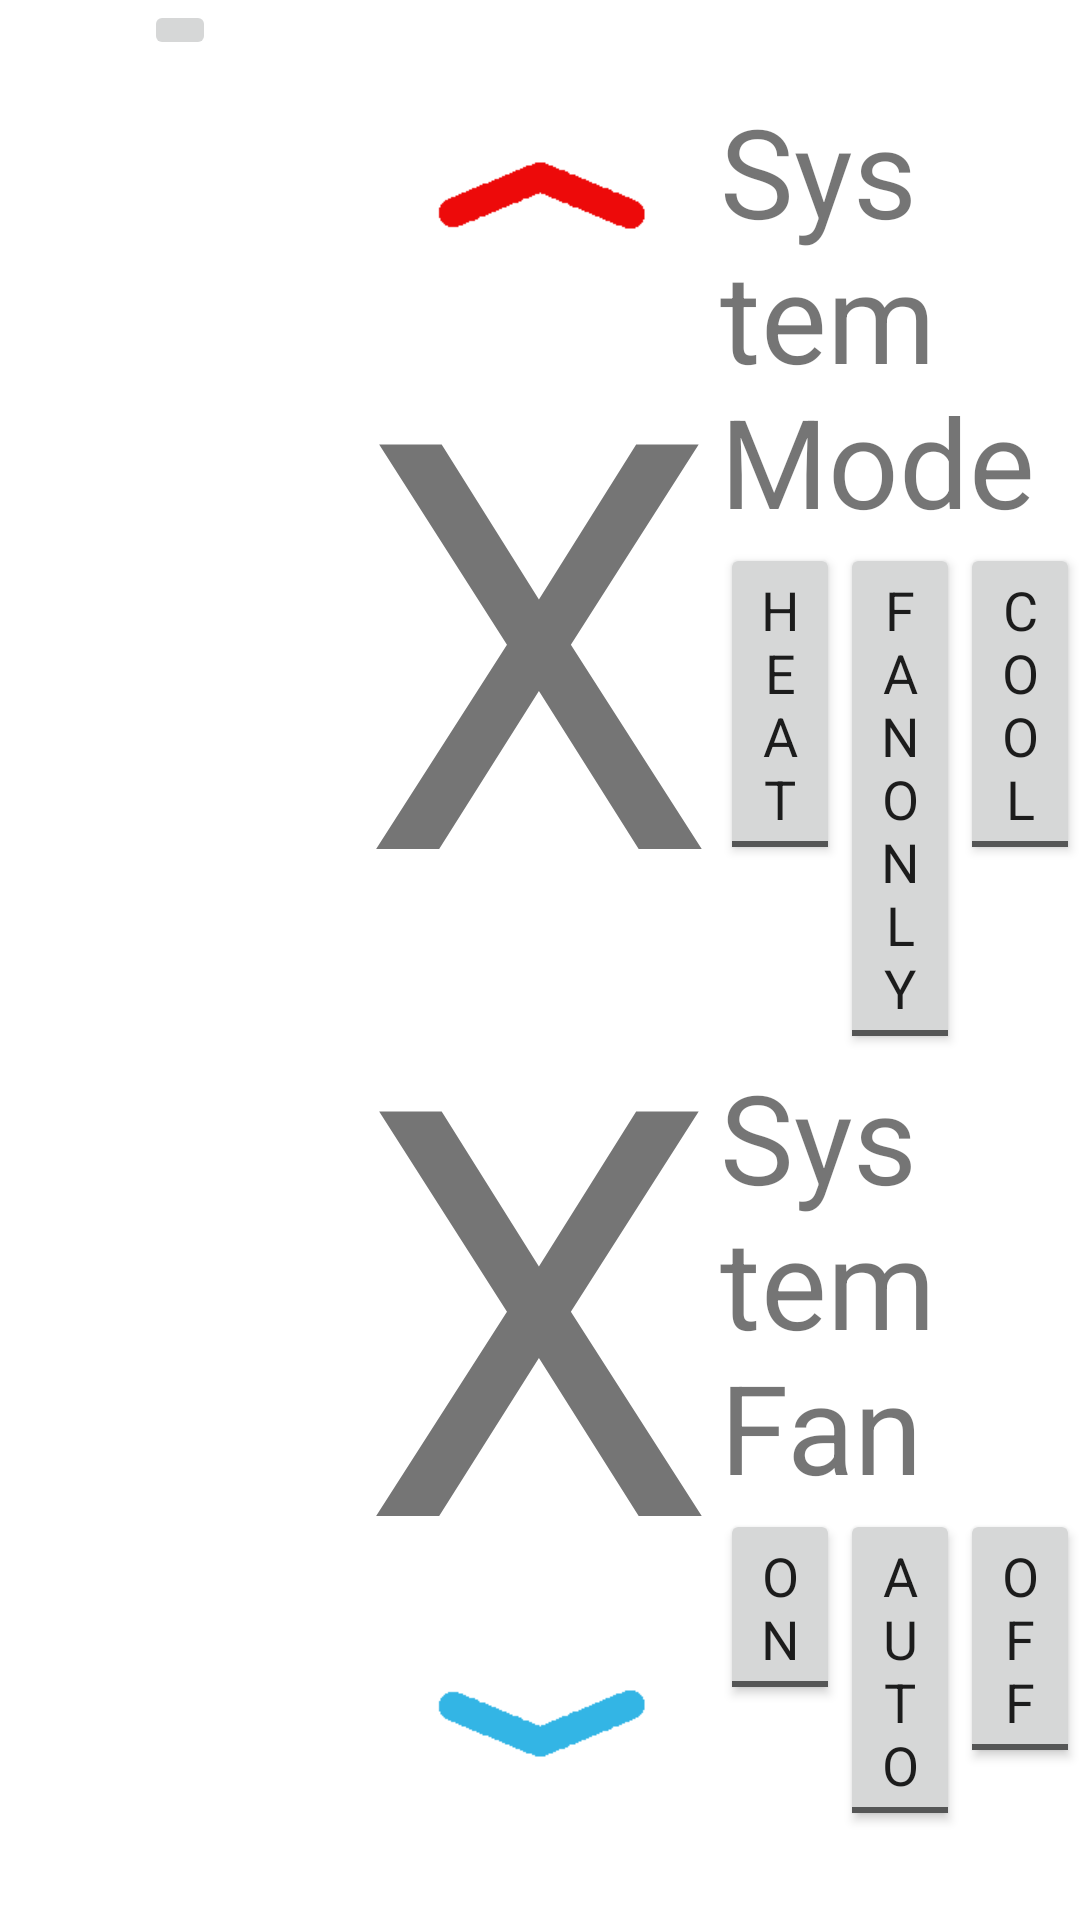

Where icons sit on this 1080w x 1920h app screen, as box(x1, y1, x2, y2):
decrease arrow: box(438, 1690, 645, 1757)
increase arrow: box(438, 162, 645, 229)
